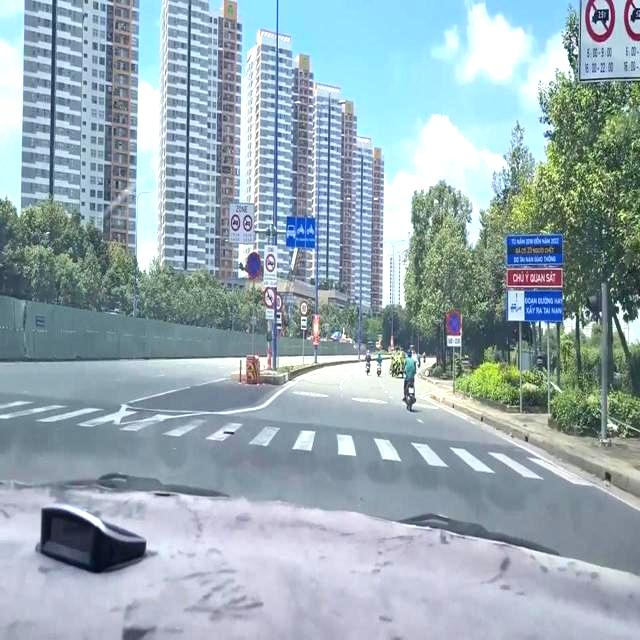Biển phụ: (445, 333, 461, 348), (300, 315, 308, 333), (276, 311, 283, 328), (264, 307, 274, 318)
Cấm các phương tiện hoạt động trong khung giờ cố định: (225, 196, 258, 244), (259, 241, 281, 287)
Cấm dừng - Cấm đỗ: (444, 300, 464, 338), (246, 248, 261, 282)
Cấm xe máy: (262, 285, 278, 308)
Giới hạn tốc độ: 80Km/h: (300, 297, 308, 315)
Khác: (502, 231, 568, 328)
Làn đường cho từng xe: (284, 210, 316, 250)
